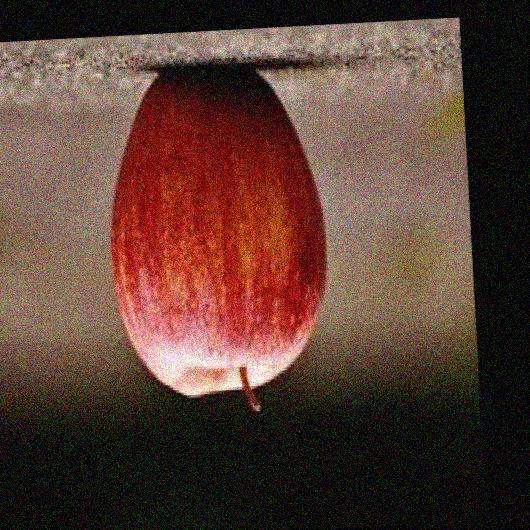red apple: (108, 67, 326, 403)
